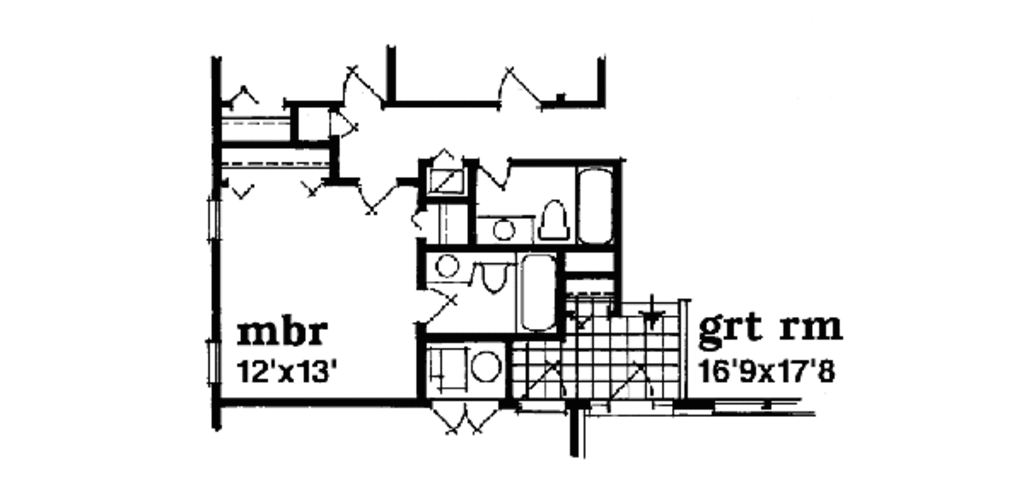door: (488, 59, 545, 113), (428, 400, 493, 437), (334, 66, 396, 103), (351, 178, 397, 217), (418, 285, 457, 330), (474, 155, 515, 193), (330, 109, 358, 141)
large_sink: (474, 258, 511, 299), (538, 199, 570, 246)
small_sink: (472, 216, 534, 249), (420, 251, 469, 282)
tub: (509, 249, 562, 335), (572, 165, 620, 250)
window: (203, 199, 229, 243), (205, 341, 226, 387)
